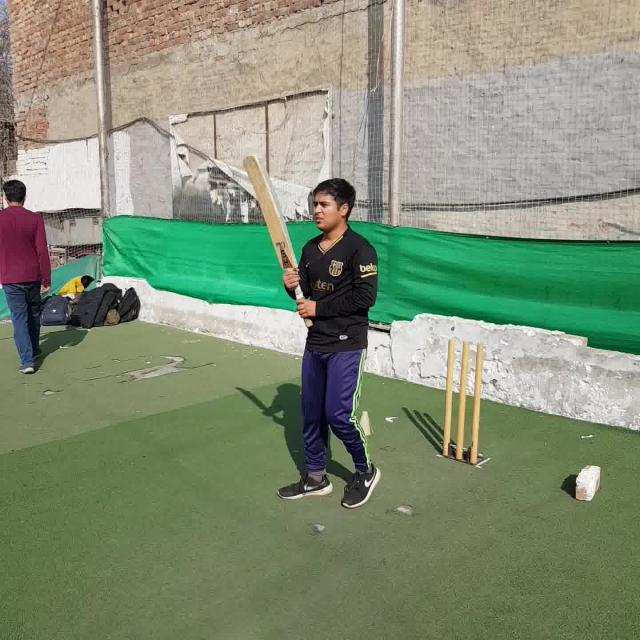bat: (243, 154, 314, 327)
